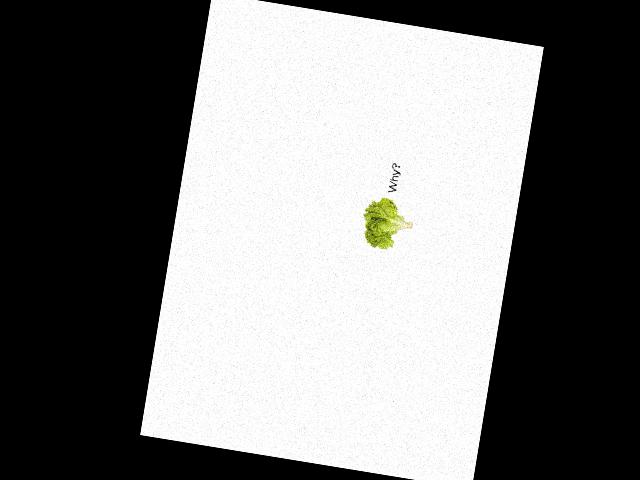lettuce: (358, 190, 417, 255)
